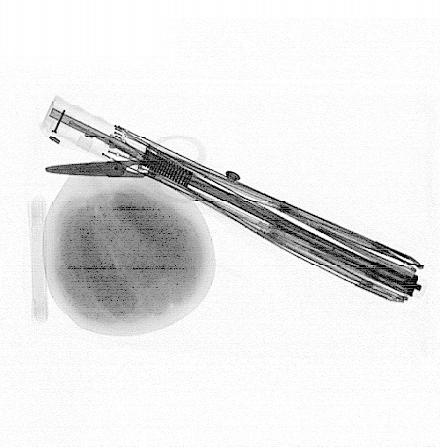Scissors: (41, 131, 213, 206)
